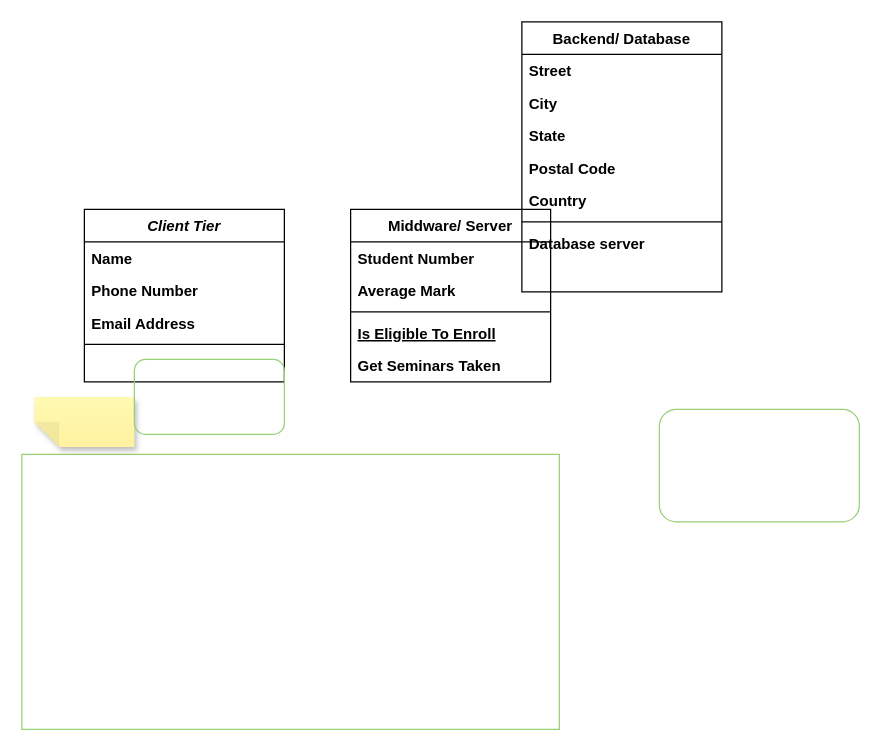
This 881x751 diagram has some shape labels left out. Here are the shapes that lost their labels. From the top down, the centre of each, then its label:
point 208,396: Purchase Parking Pass
point 85,423: AWS EC2 instance
